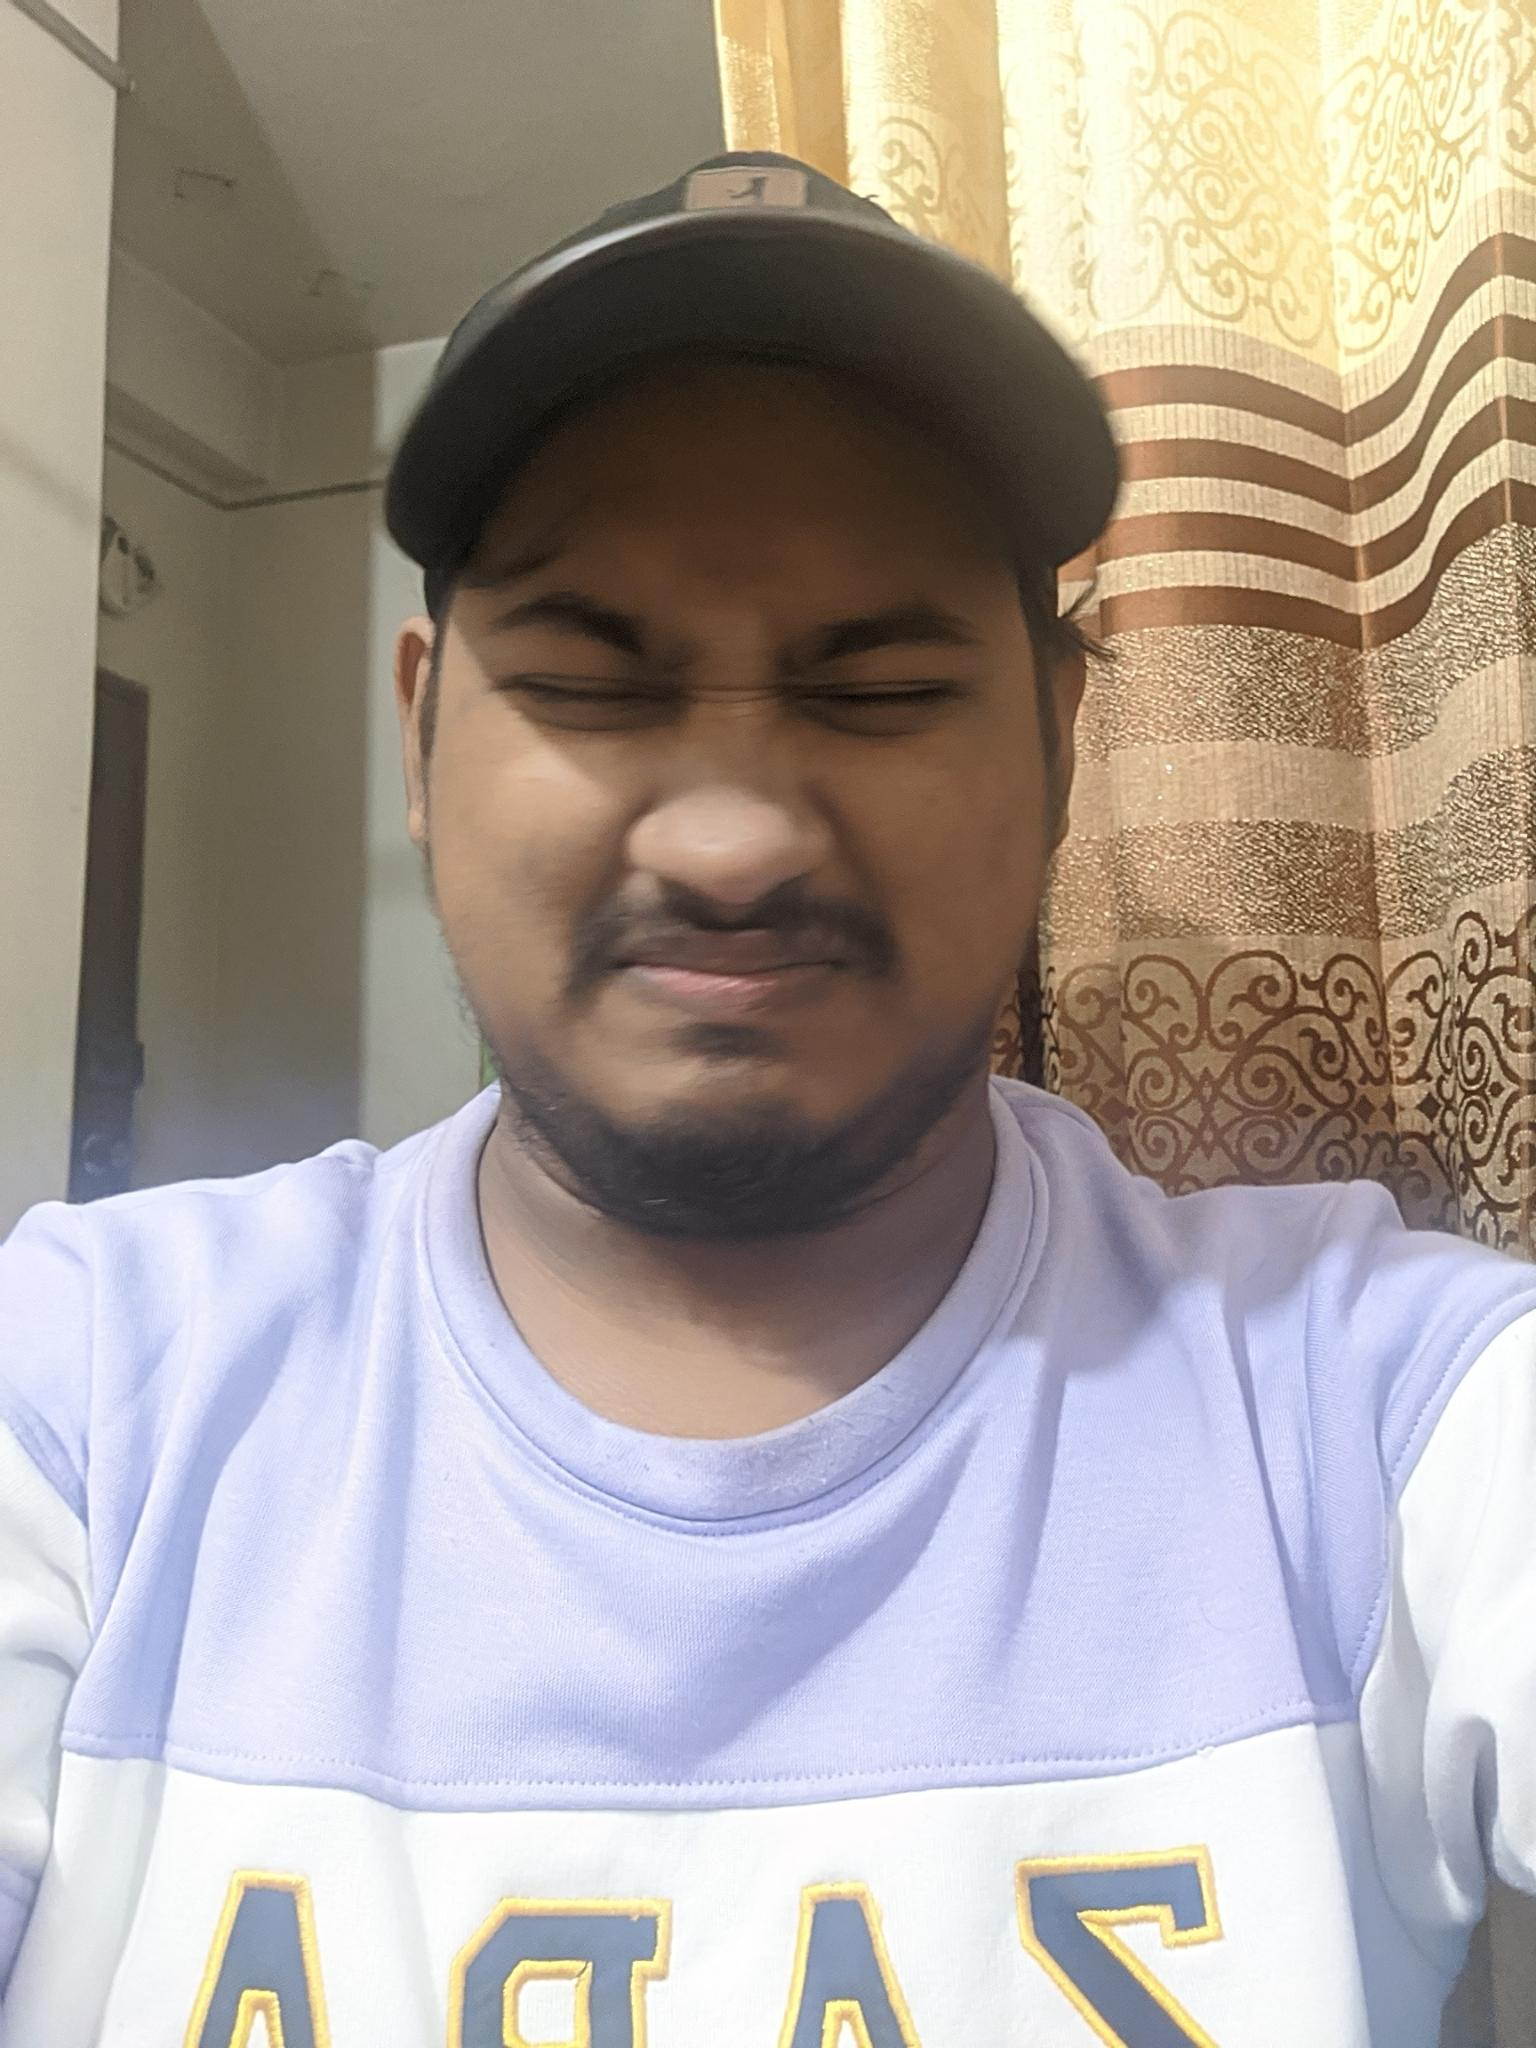Disgust: (428, 450, 1076, 1216)
